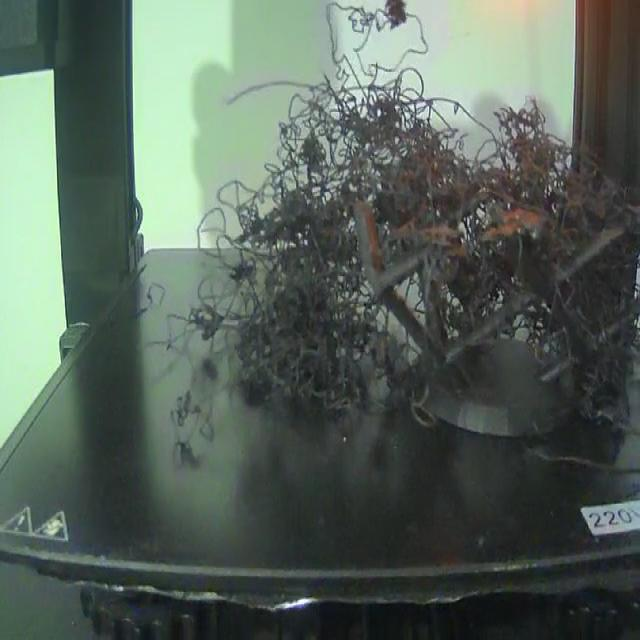spaghetti: (168, 4, 640, 501)
